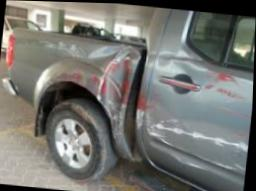Door: (137, 48, 254, 191)
Fender: (39, 32, 150, 148)
